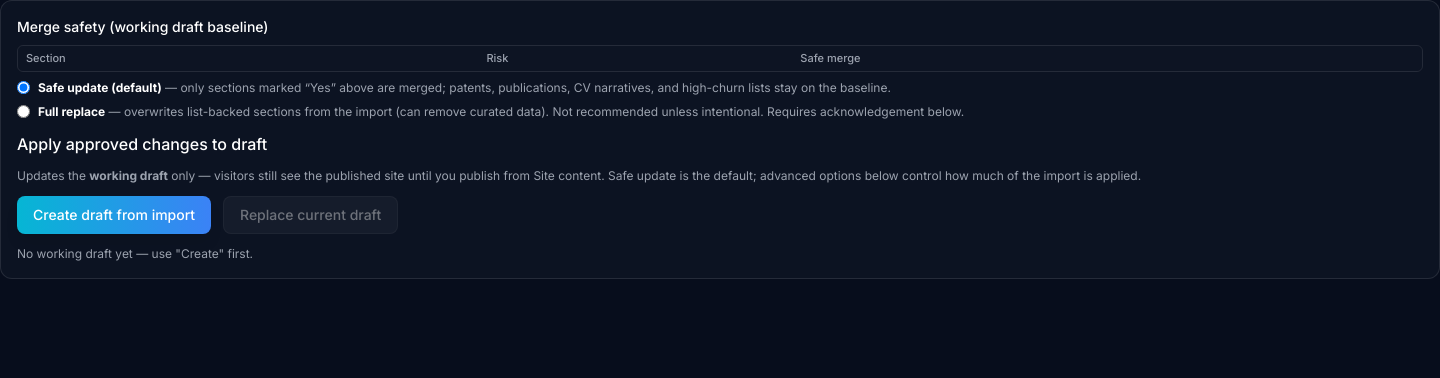
Test case: admin review / editor interaction › ImportMergeDraftCard shows full_replace acknowledgement listing curated sections
Click the radio button labelled "Full replace". click: {"x": 24, "y": 112}
box: [17,105,30,118]
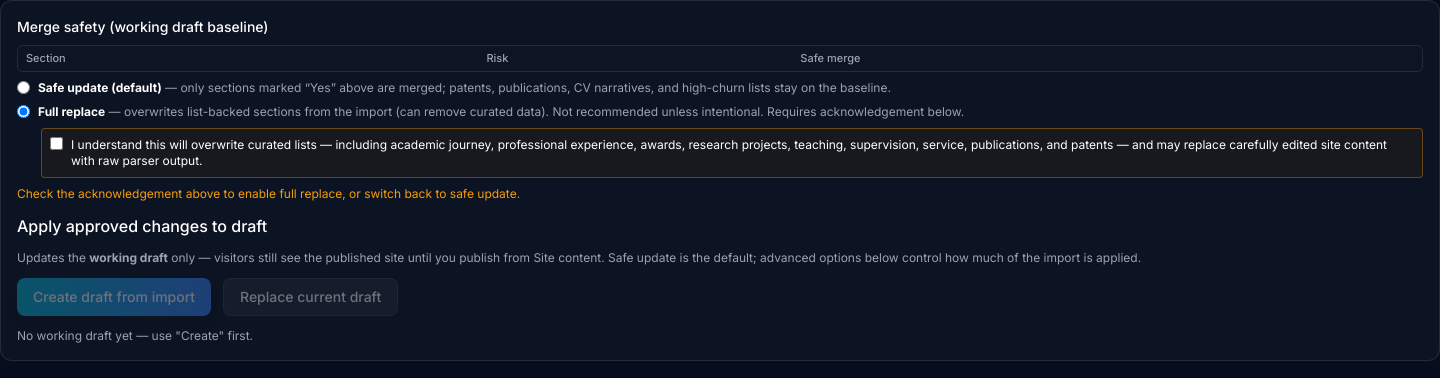
Expected: the text "publications, and patents" is shown, [71,136,1387,168]
